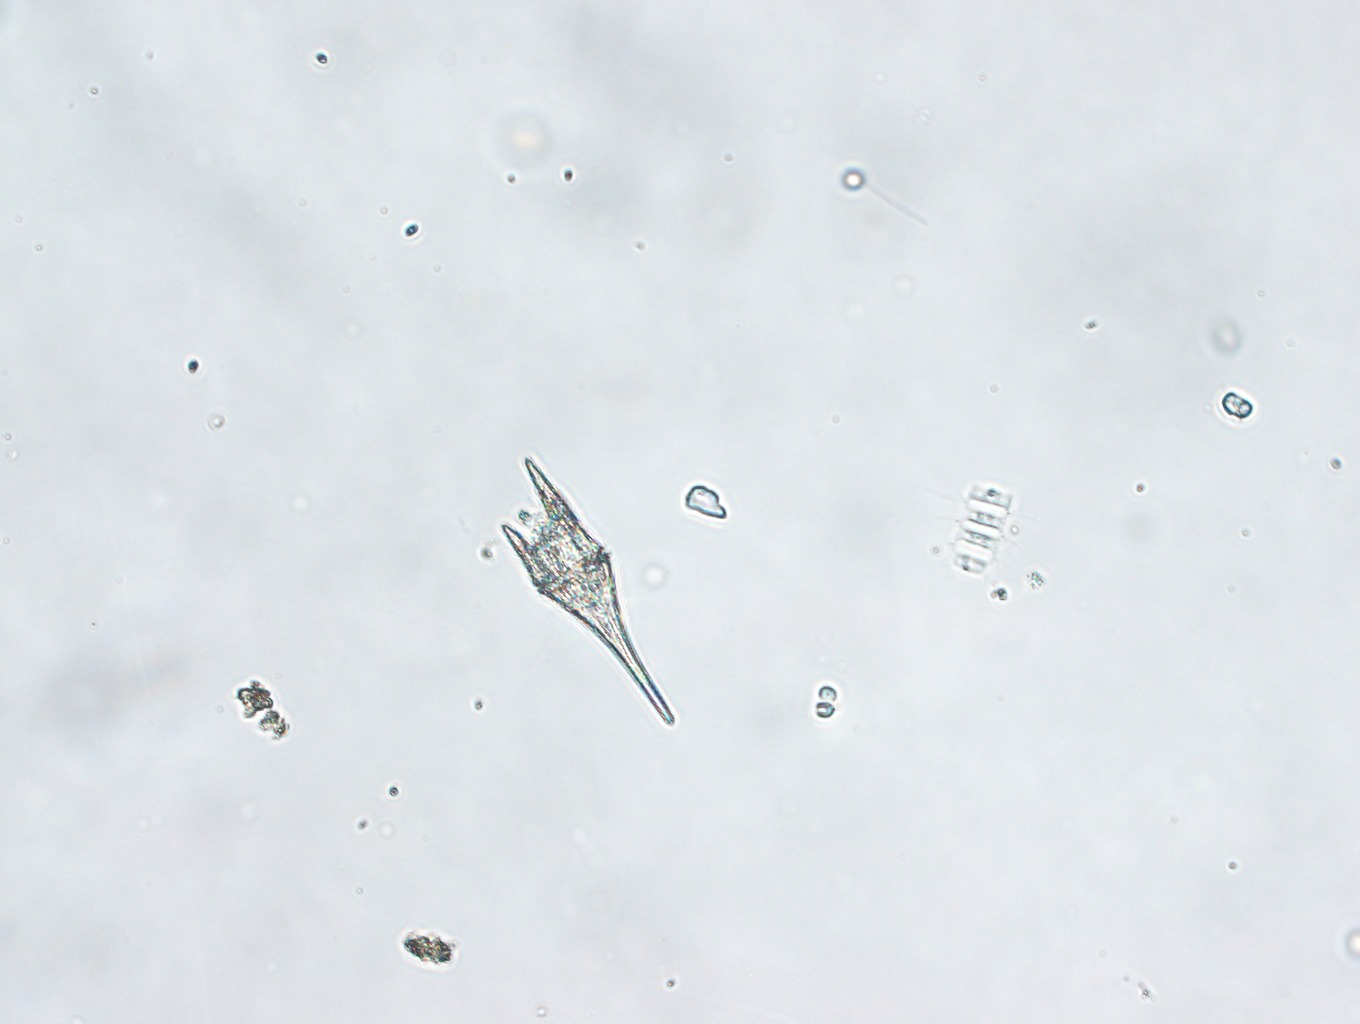ceratium furca: (499, 457, 677, 731)
chaetoceros: (934, 481, 1031, 586)
